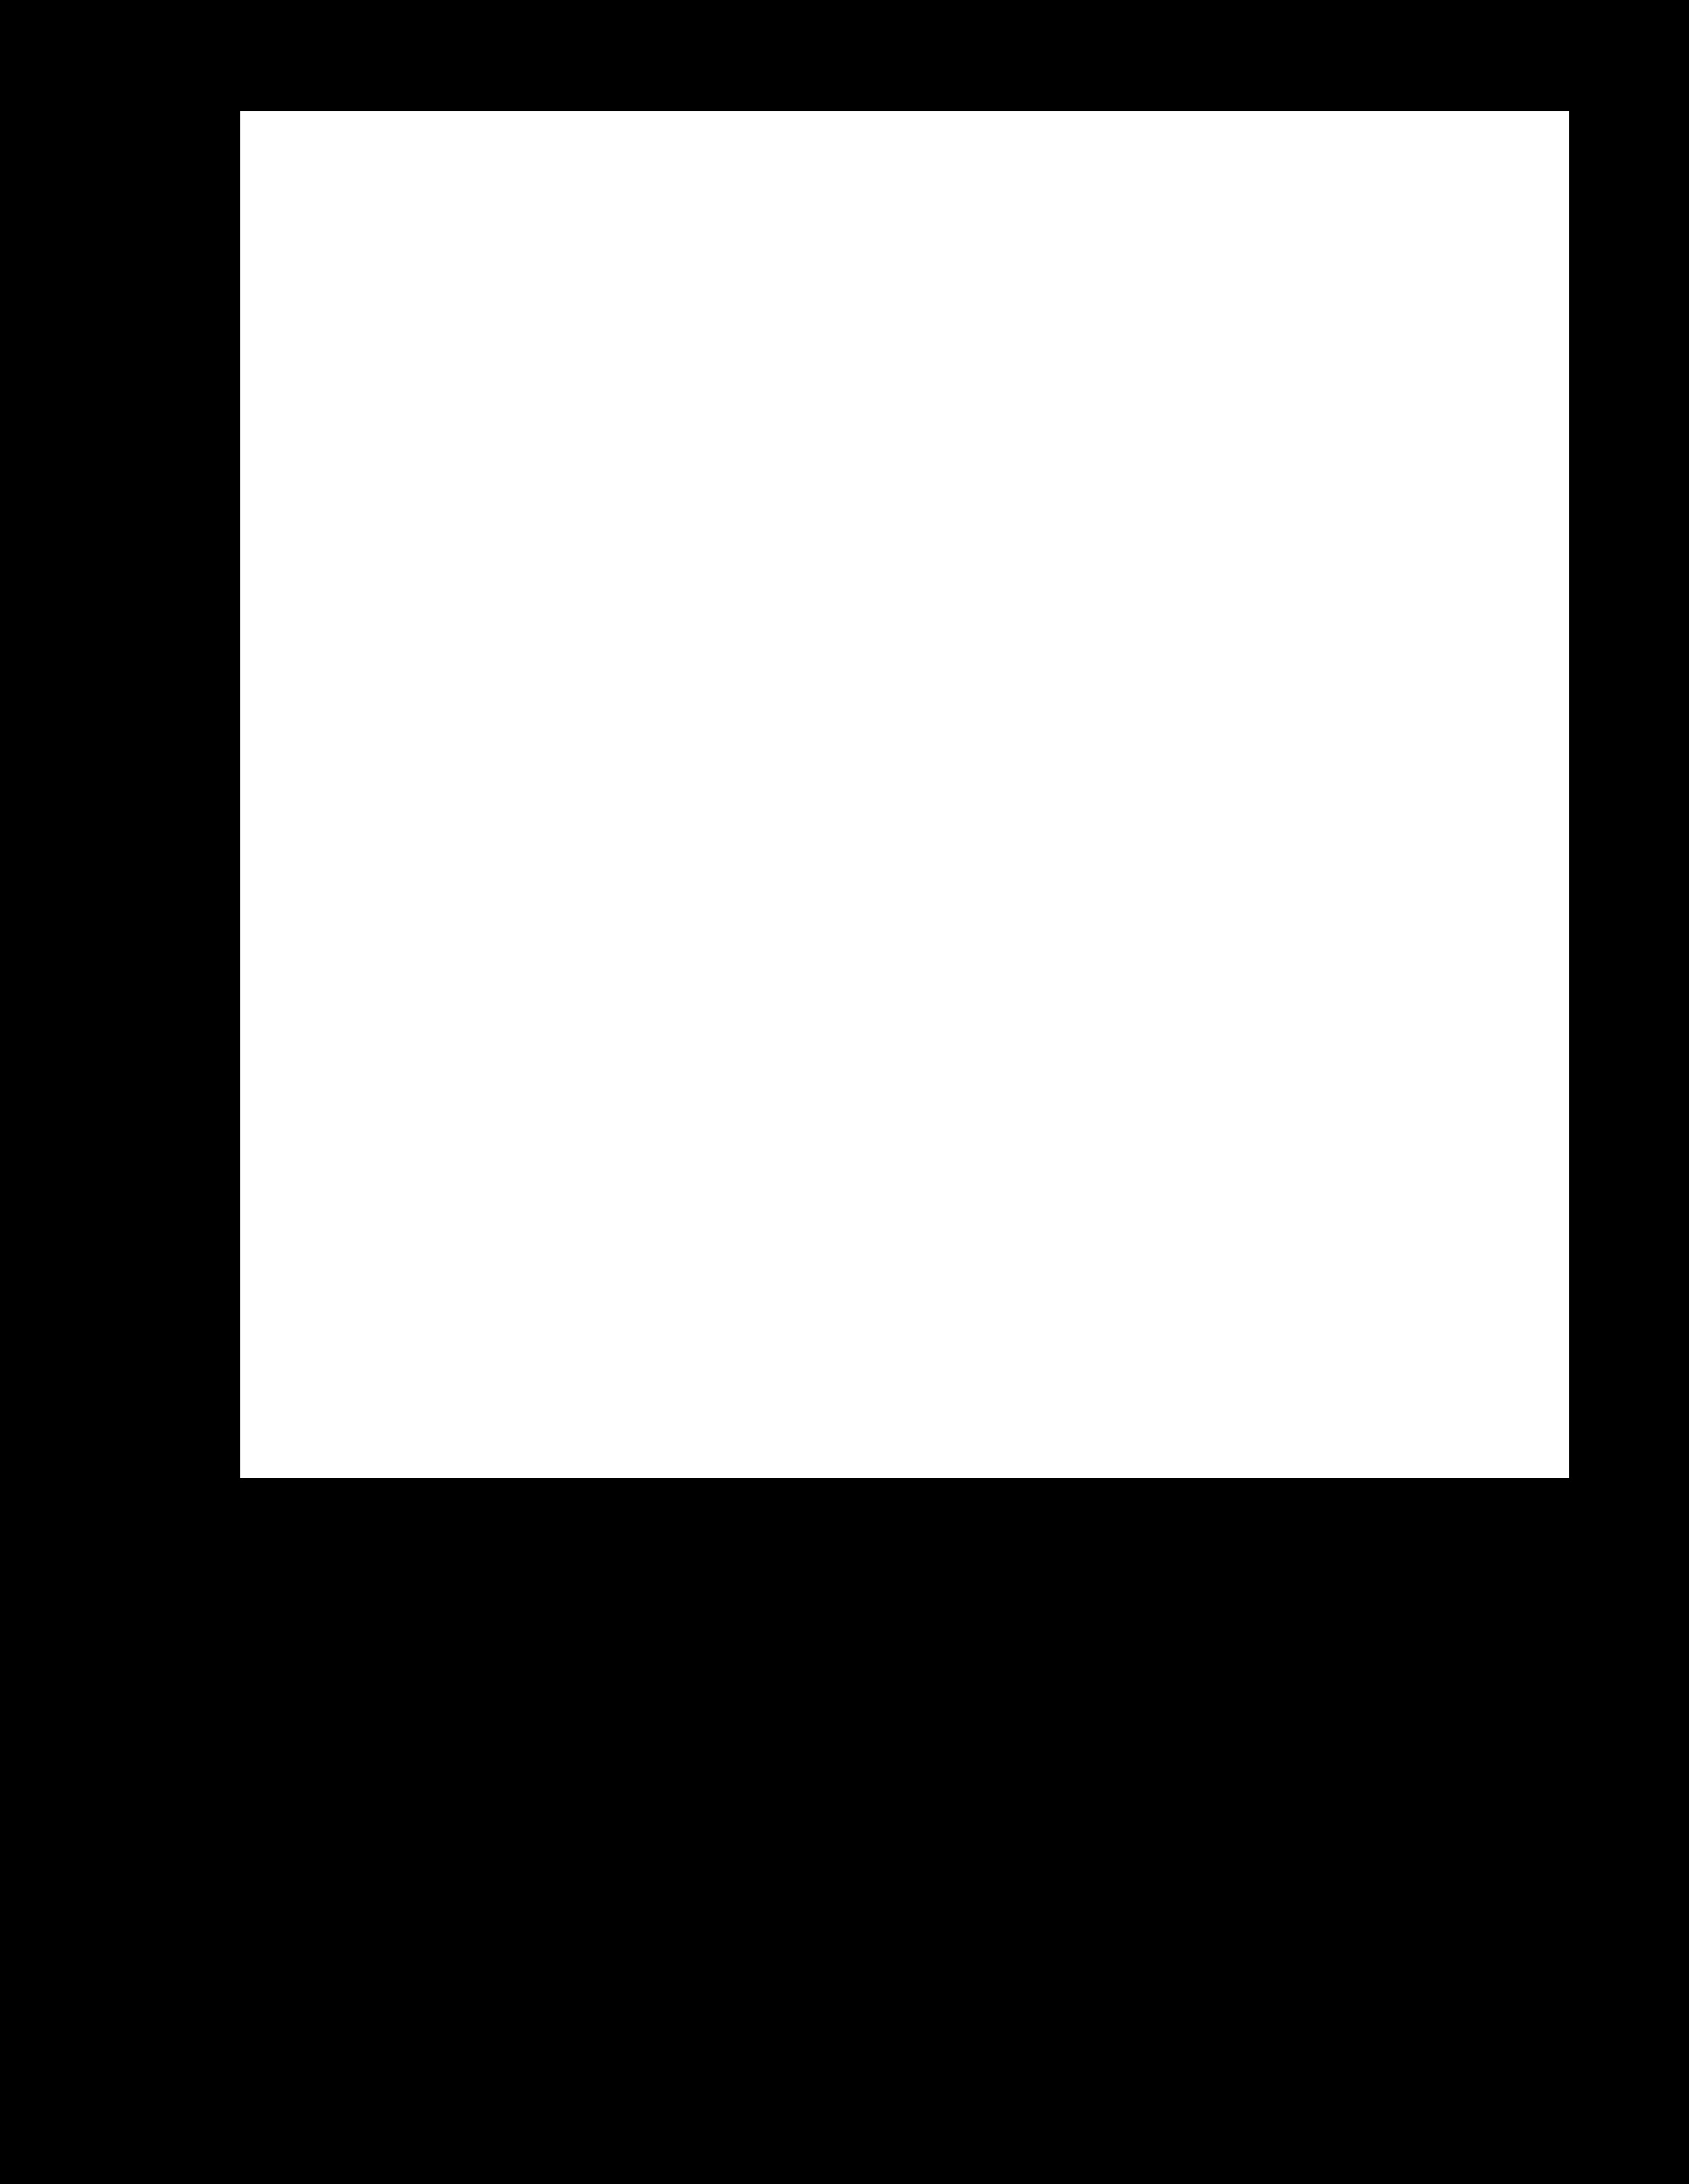table: (241, 112, 1568, 1477)
